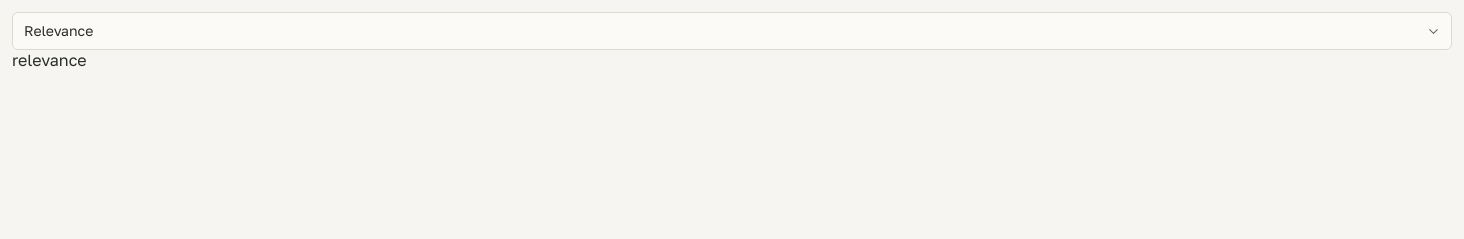
Scenario: SelectDropdown › lists only the real options, with no placeholder row, even when a placeholder is set
Step 1. Click the dropdown labelled "Relevance" → {"x": 59, "y": 30}, box [12,12,1452,50]
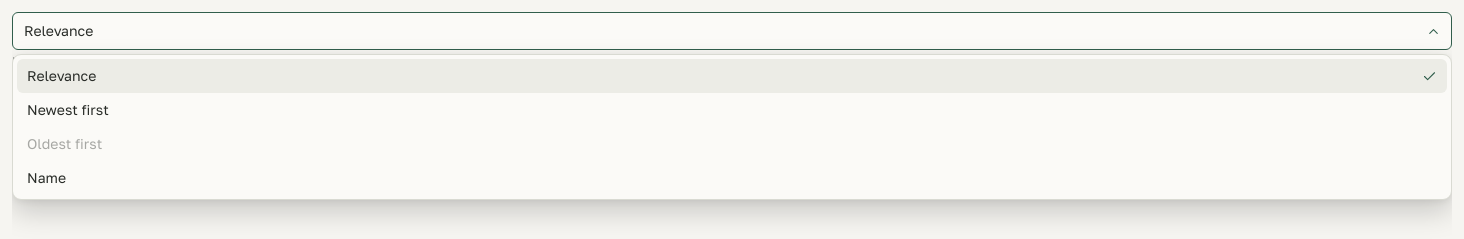
Result: the dropdown labelled "Relevance" is expanded at [12,12,1452,50]
